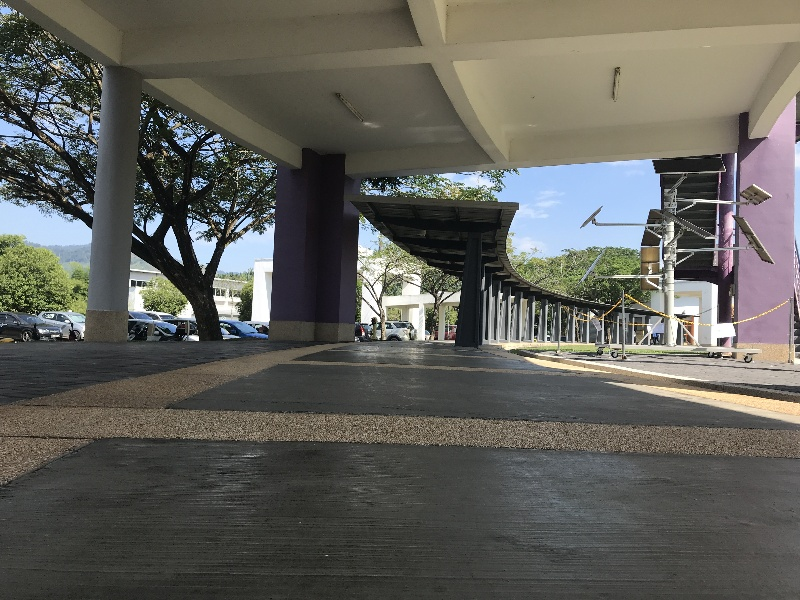Block D corridor: (7, 4, 797, 596)
pillar: (717, 102, 791, 372), (265, 133, 357, 346), (87, 57, 139, 337), (452, 220, 495, 373)
